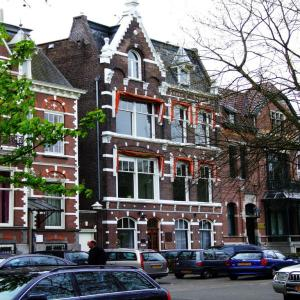Vehicle-registration-plate: (240, 264, 253, 267)
